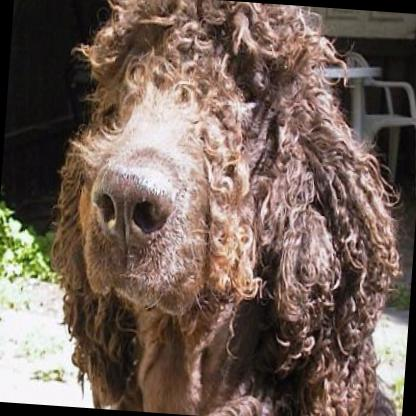Irish_water_spaniel: (31, 0, 416, 416)
